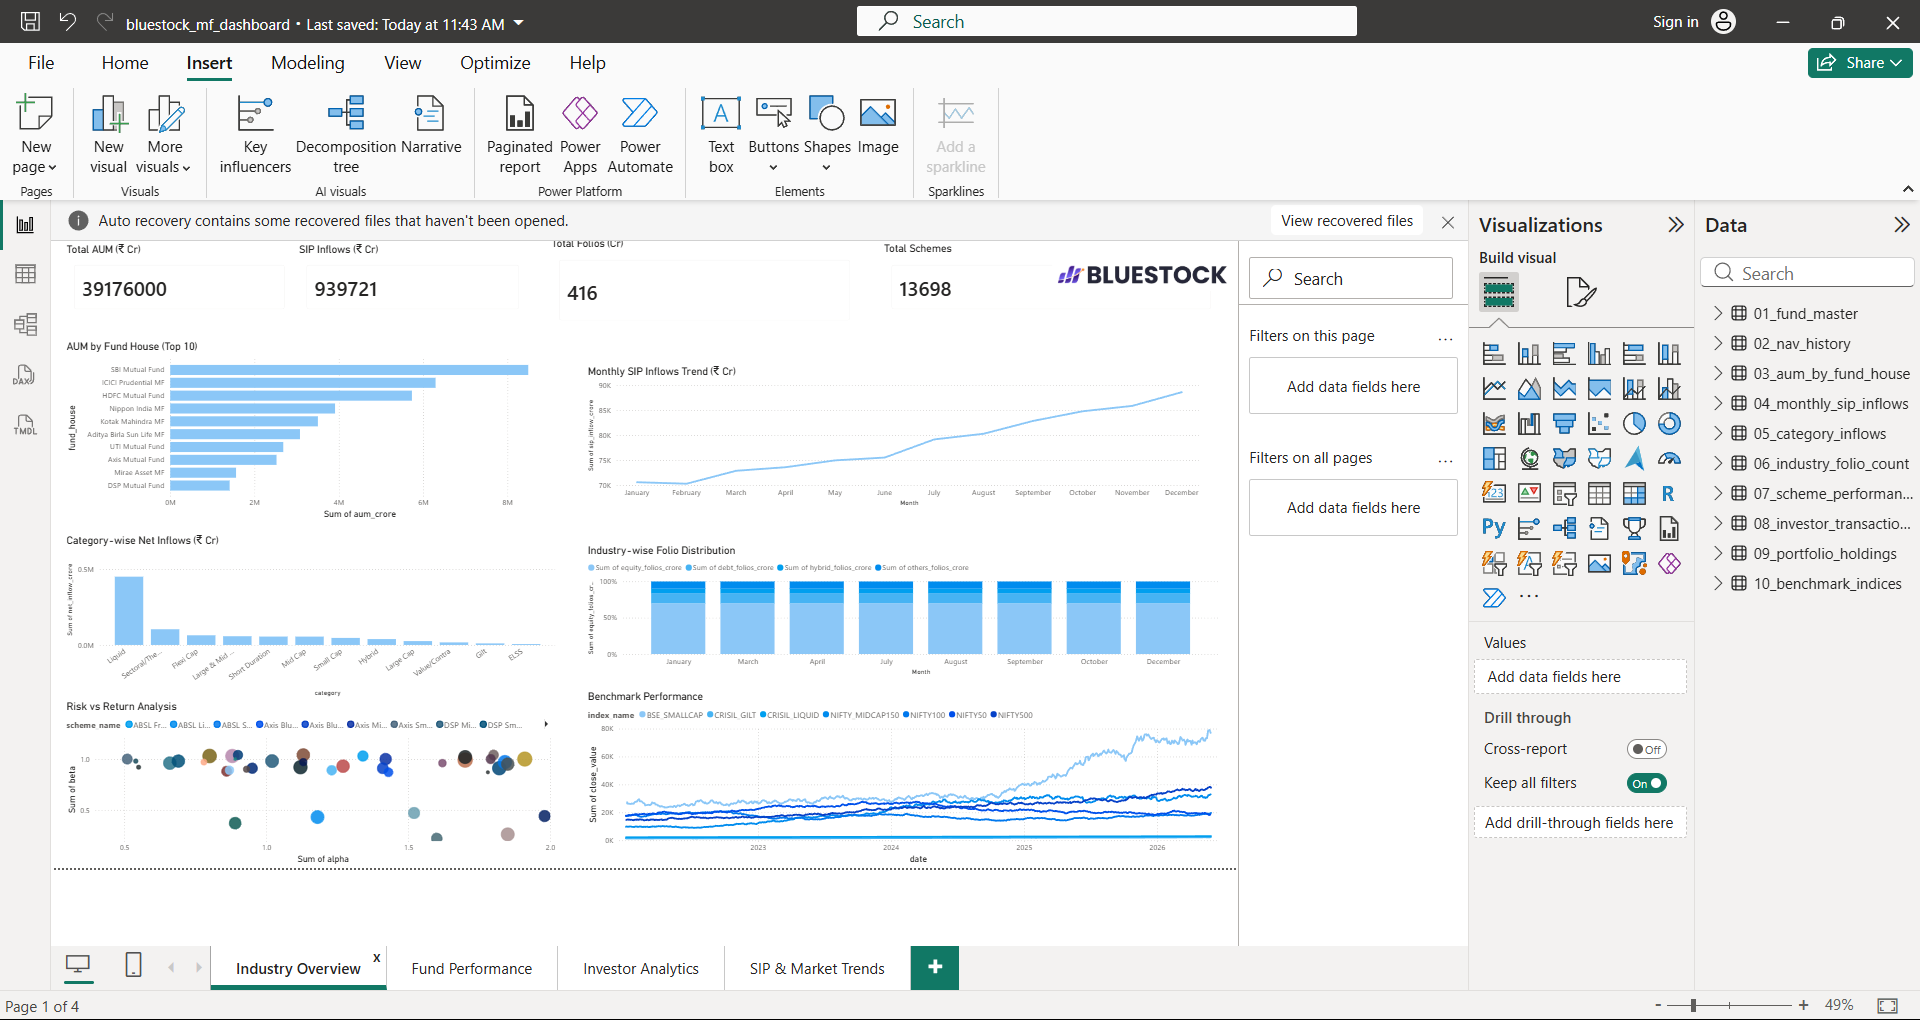

This screenshot's page, from the dashboard's own definition file:
{"tool":"powerbi","page":{"name":"Industry Overview","canvas":[1920,1080],"ordinal":0},"visuals":[{"type":"cardVisual","title":"Total AUM (₹ Cr)","fields":{"Data":["Sum(03_aum_by_fund_house.aum_crore)"]},"box":[20.2,68.7,376,125.3],"z":0},{"type":"cardVisual","title":"SIP Inflows (₹ Cr)","fields":{"Data":["Sum(04_monthly_sip_inflows.sip_inflow_crore)"]},"box":[396.2,68.7,378,125.3],"z":1000},{"type":"cardVisual","title":"Total Folios (Cr)","fields":{"Data":["Sum(06_industry_folio_count.total_folios_crore)"]},"box":[804.6,60.6,505.4,151.6],"z":2000},{"type":"cardVisual","title":"Total Schemes","fields":{"Data":["Sum(03_aum_by_fund_house.num_schemes)"]},"box":[1342.3,68.7,551.9,125.3],"z":3000},{"type":"clusteredBarChart","title":"AUM by Fund House (Top 10)","fields":{"Category":["03_aum_by_fund_house.fund_house"],"Y":["Sum(03_aum_by_fund_house.aum_crore)"]},"box":[20.2,226.4,800.5,295.1],"z":4000},{"type":"lineChart","title":"Monthly SIP Inflows Trend (₹ Cr)","fields":{"Category":["04_monthly_sip_inflows.month.Variation.Date Hierarchy.Month"],"Y":["Sum(04_monthly_sip_inflows.sip_inflow_crore)"]},"box":[863.2,266.8,1002.7,234.5],"z":5000},{"type":"clusteredColumnChart","title":"Category-wise Net Inflows (₹ Cr)","fields":{"Category":["05_category_inflows.category"],"Y":["Sum(05_category_inflows.net_inflow_crore)"]},"box":[20.2,539.7,800.5,268.9],"z":6000},{"type":"hundredPercentStackedColumnChart","title":"Industry-wise Folio Distribution","fields":{"Category":["06_industry_folio_count.month.Variation.Date Hierarchy.Month"],"Y":["Sum(06_industry_folio_count.equity_folios_crore)","Sum(06_industry_folio_count.debt_folios_crore)","Sum(06_industry_folio_count.hybrid_folios_crore)","Sum(06_industry_folio_count.others_folios_crore)"]},"box":[863.2,555.9,1031,218.3],"z":7000},{"type":"lineChart","title":"Benchmark Performance","fields":{"Category":["10_benchmark_indices.date"],"Y":["Sum(10_benchmark_indices.close_value)"],"Series":["10_benchmark_indices.index_name"]},"box":[863.2,792.4,1031,287.1],"z":8000},{"type":"scatterChart","title":"Risk vs Return Analysis","fields":{"X":["Sum(07_scheme_performance.alpha)"],"Y":["Sum(07_scheme_performance.beta)"],"Size":["Sum(07_scheme_performance.aum_crore)"],"Category":["07_scheme_performance.fund_house"],"Series":["07_scheme_performance.scheme_name"]},"box":[20.2,808.6,800.5,270.9],"z":9000},{"type":"textbox","box":[4,0,1718.3,60.6],"z":10000},{"type":"image","box":[1619.2,30.3,301.2,179.9],"z":10001}]}

Visuals, with their boxes on the page's 1920x1080 design canvas (x1, y1, x2, y2). These are canvas units, not pixel positions in the 1920x1020 screenshot, which may show the page scaled, cropped or inside an application window:
"Total AUM (₹ Cr)" cardVisual: <box>20,69,396,194</box>
"SIP Inflows (₹ Cr)" cardVisual: <box>396,69,774,194</box>
"Total Folios (Cr)" cardVisual: <box>805,61,1310,212</box>
"Total Schemes" cardVisual: <box>1342,69,1894,194</box>
"AUM by Fund House (Top 10)" clusteredBarChart: <box>20,226,821,522</box>
"Monthly SIP Inflows Trend (₹ Cr)" lineChart: <box>863,267,1866,501</box>
"Category-wise Net Inflows (₹ Cr)" clusteredColumnChart: <box>20,540,821,809</box>
"Industry-wise Folio Distribution" hundredPercentStackedColumnChart: <box>863,556,1894,774</box>
"Benchmark Performance" lineChart: <box>863,792,1894,1080</box>
"Risk vs Return Analysis" scatterChart: <box>20,809,821,1080</box>
textbox: <box>4,0,1722,61</box>
image: <box>1619,30,1920,210</box>
